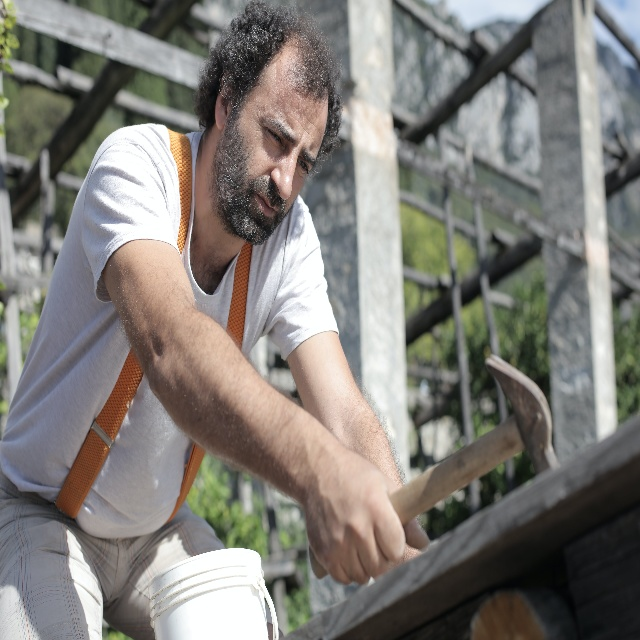Sin_guantes: (301, 440, 406, 585)
